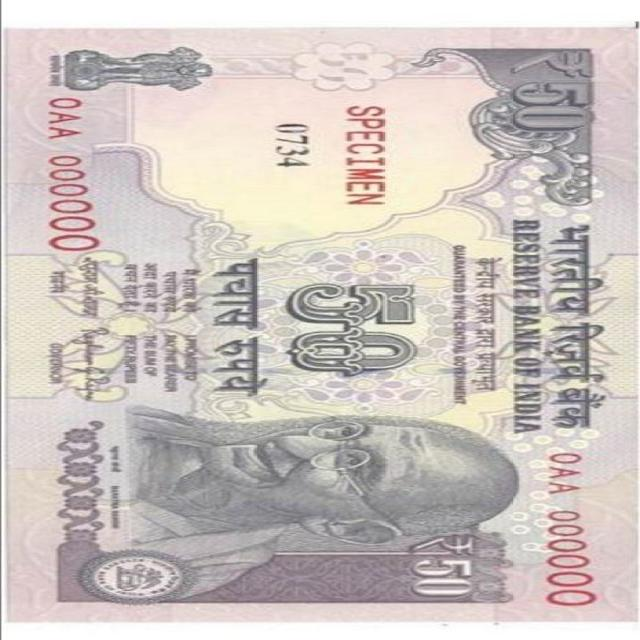50IndianRupees: (20, 29, 640, 615)
